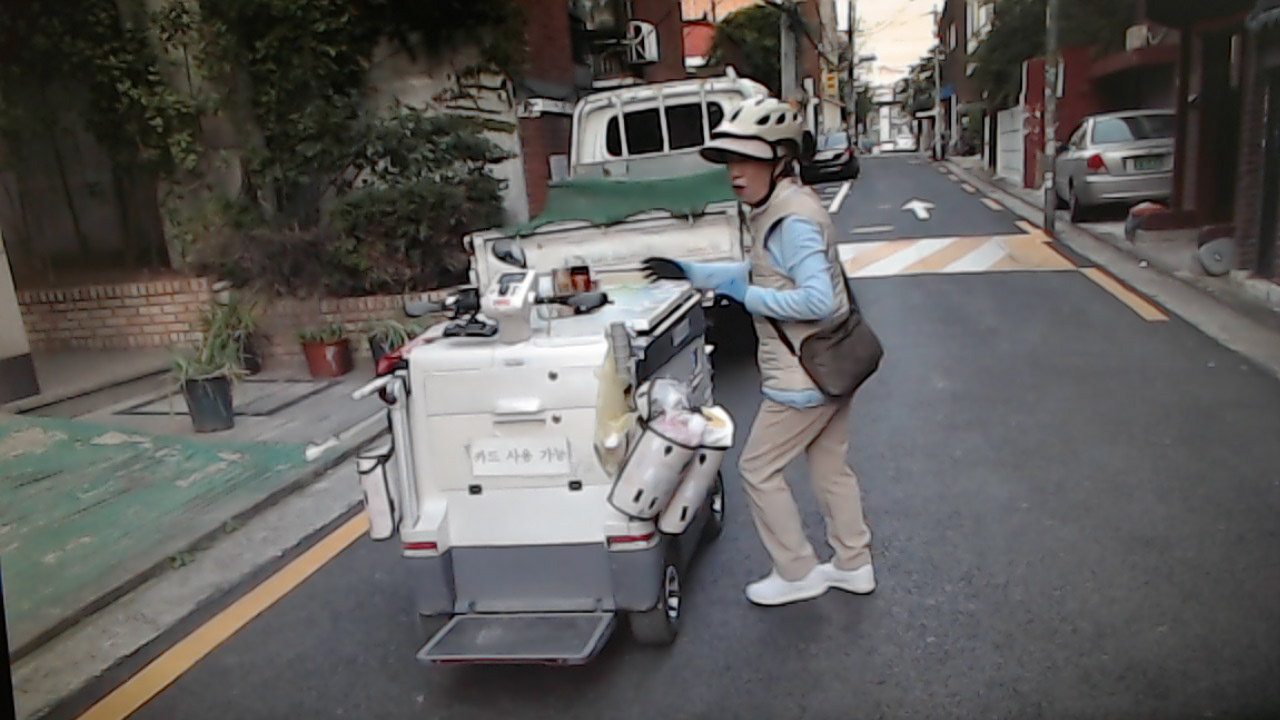Yakurut: (639, 96, 898, 617)
